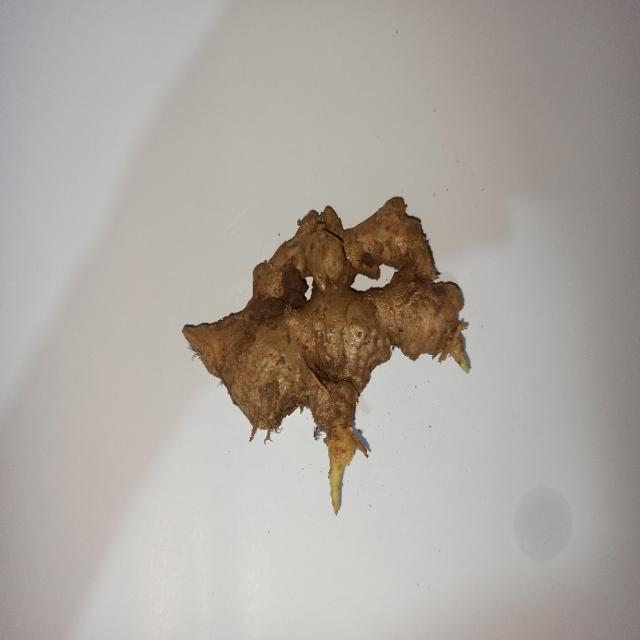ginger: (182, 195, 473, 520)
